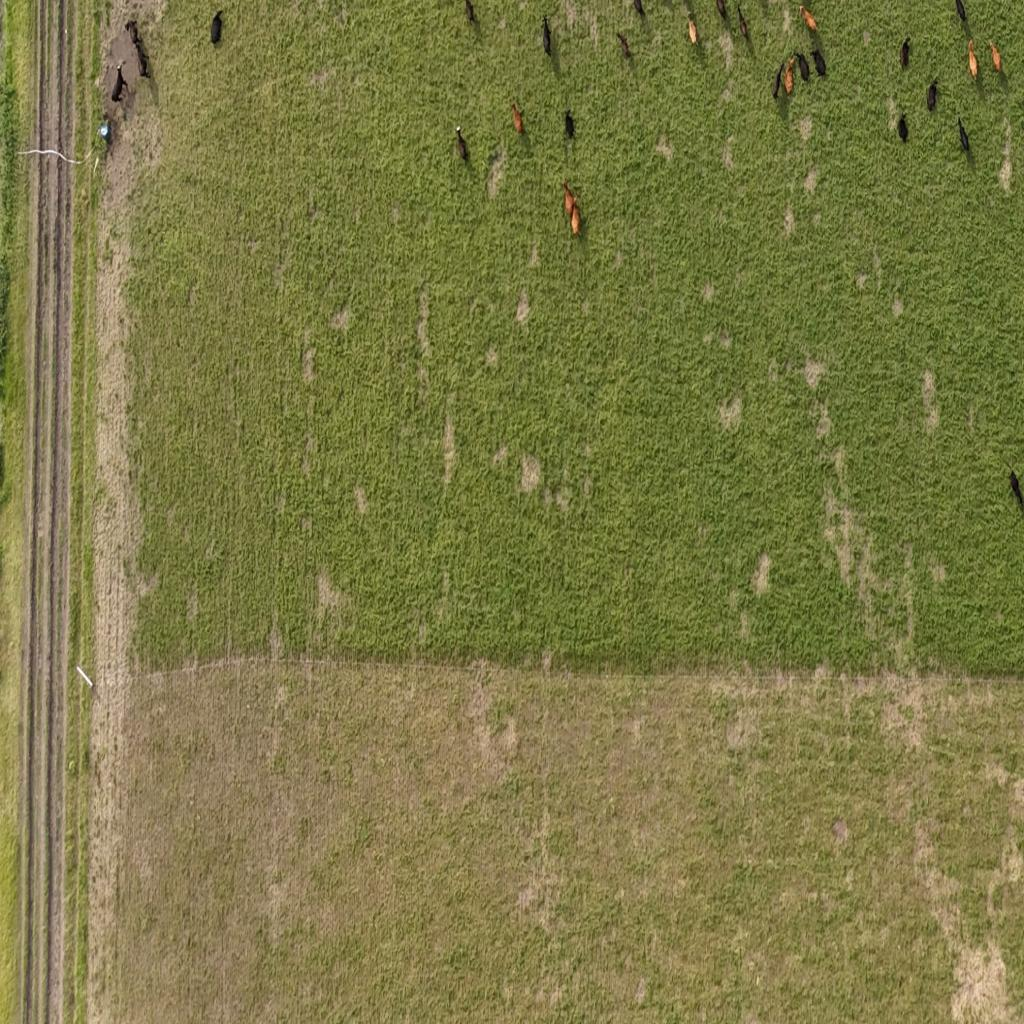cow: (1005, 465, 1024, 520), (111, 62, 127, 103), (957, 117, 972, 157), (541, 13, 553, 58), (799, 3, 817, 33), (454, 126, 468, 164), (135, 40, 149, 78), (811, 46, 827, 78), (988, 38, 1002, 74), (967, 39, 979, 80), (772, 61, 784, 100), (572, 194, 583, 235), (896, 111, 909, 145), (512, 98, 524, 134), (126, 19, 142, 46), (210, 10, 222, 45), (616, 30, 631, 58), (796, 52, 810, 82), (926, 78, 938, 112), (784, 56, 794, 96), (564, 107, 575, 143), (953, 0, 967, 27), (737, 5, 748, 39), (687, 15, 698, 45), (563, 183, 573, 216), (900, 37, 910, 69), (464, 0, 476, 25), (715, 0, 727, 23), (632, 0, 645, 18)
